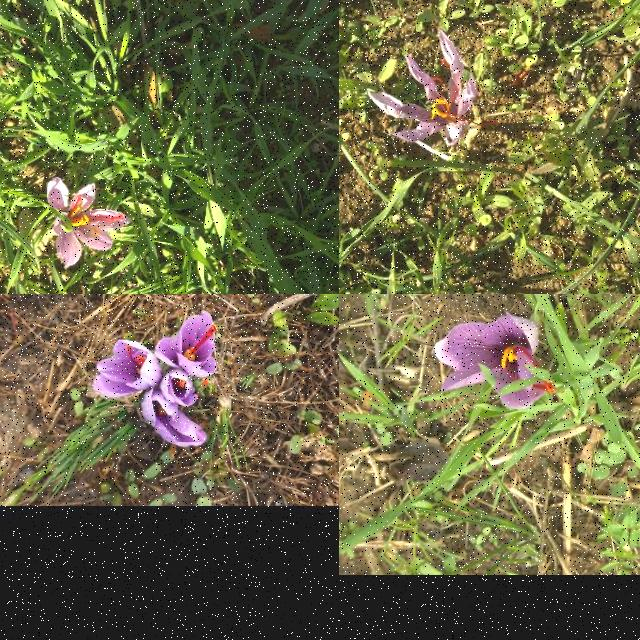flower: (366, 29, 478, 142), (434, 314, 556, 410), (46, 178, 130, 270), (154, 312, 218, 378), (93, 340, 163, 400), (141, 386, 207, 448), (160, 370, 198, 408)
